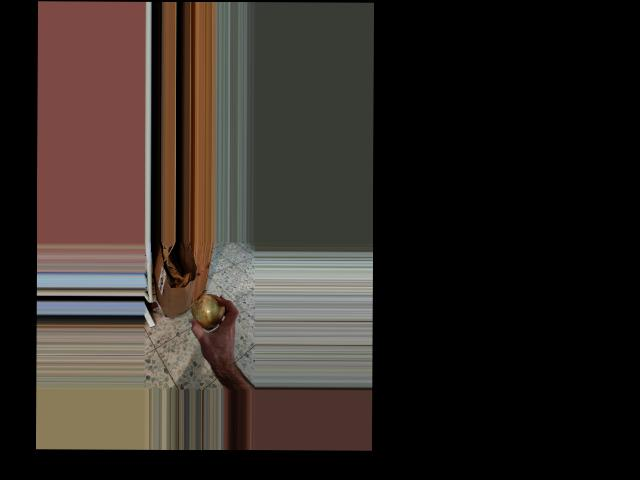onion: (191, 286, 227, 331)
